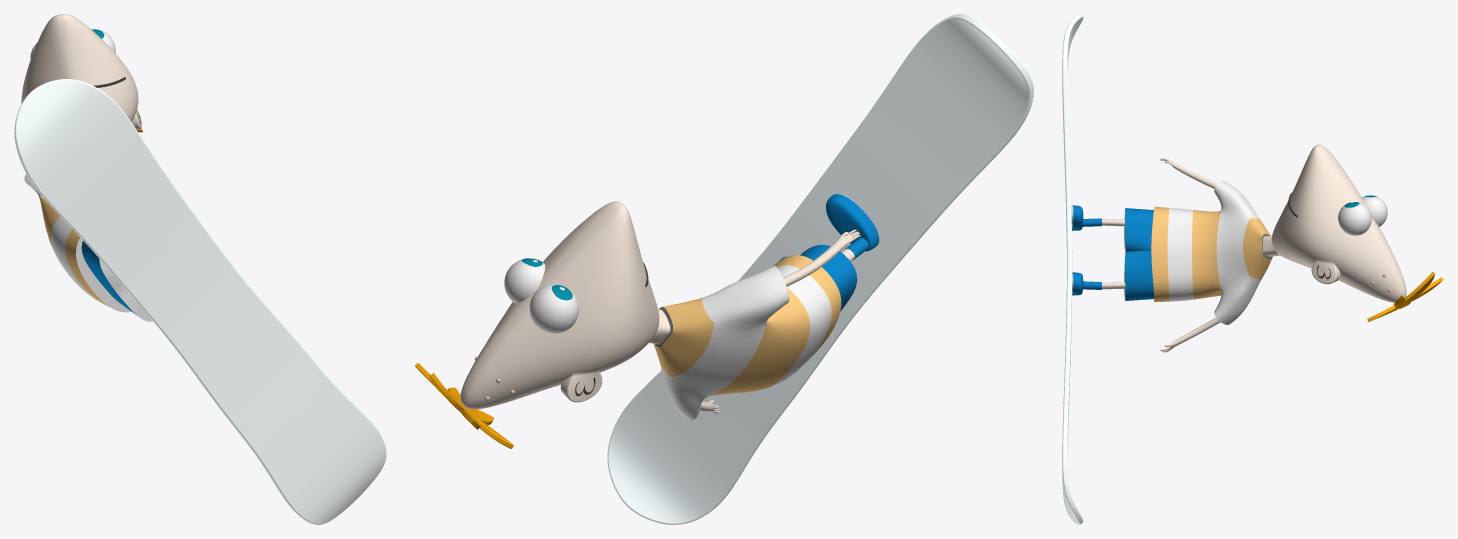
3 renders of one model, left to right at view 1: azimuth 30°, elevation 25°; view 2: azimuth 150°, elevation 25°; view 3: azimuth 270°, elevation 25°, orthographic. The views are drawn at different scales.
Visible parts, largest first — view 1: Snow_Board_BRTN; view 2: Snow_Board_BRTN; view 3: Snow_Board_BRTN.
Boxes of the visible parts, box(x1,y1,x2,y2) form: Snow_Board_BRTN: box(14, 14, 386, 524); Snow_Board_BRTN: box(415, 14, 1033, 524); Snow_Board_BRTN: box(1062, 14, 1443, 524).
Bounding box in the file's own units: 0.7815 × 1.02 × 0.8839.
